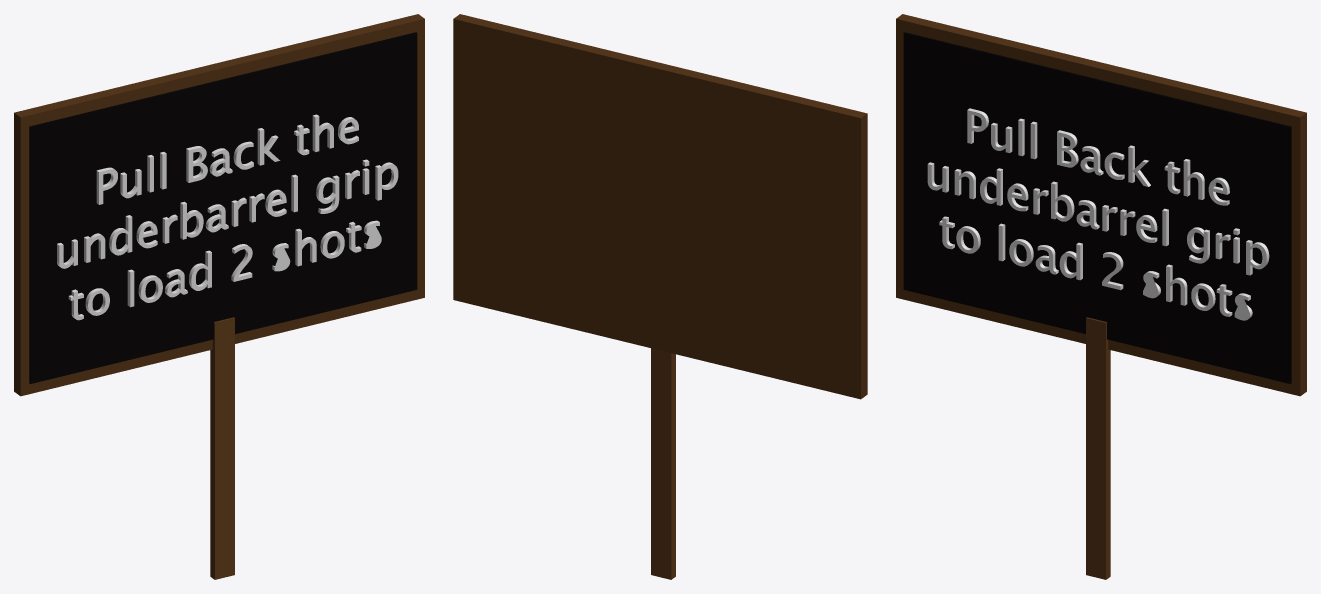
File: TutorialSign1.fbx
3 views of the same model, side by side, from view 1: azimuth 30°, elevation 25°; view 2: azimuth 150°, elevation 25°; view 3: azimuth 330°, elevation 25° (orthographic).
Parts seen in each view (by area): view 1: pCube12; view 2: pCube12; view 3: pCube12.
Boxes of the visible parts, left/top/right/bottom form: pCube12: left=14, top=14, right=424, bottom=579; pCube12: left=453, top=14, right=867, bottom=579; pCube12: left=896, top=14, right=1306, bottom=579.
Bounding box in the file's own units: 154 × 185 × 6.68.
